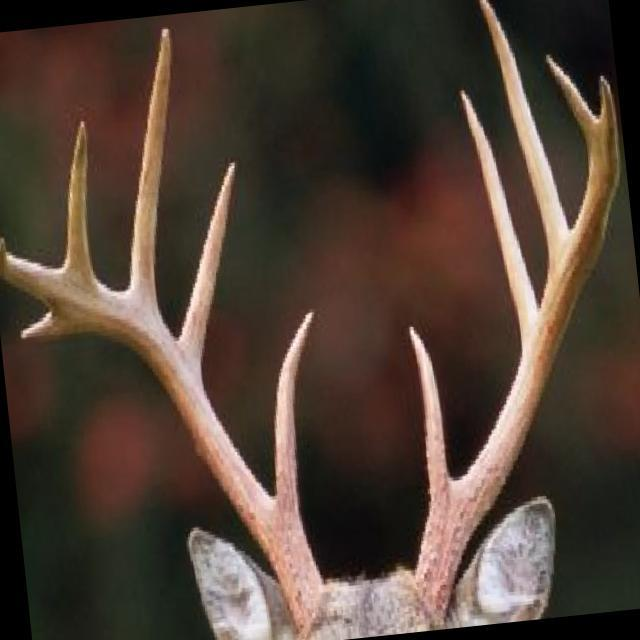E1: (17, 312, 80, 341)
L-F: (414, 72, 621, 628)
L-G1: (406, 323, 453, 508)
L-G2: (458, 85, 539, 354)
L-G3: (475, 0, 571, 277)
L-G4: (545, 49, 598, 151)
R-F: (0, 228, 323, 639)
R-G1: (271, 303, 319, 535)
R-G2: (175, 154, 236, 395)
R-G3: (127, 22, 173, 323)
R-G4: (61, 117, 99, 282)
